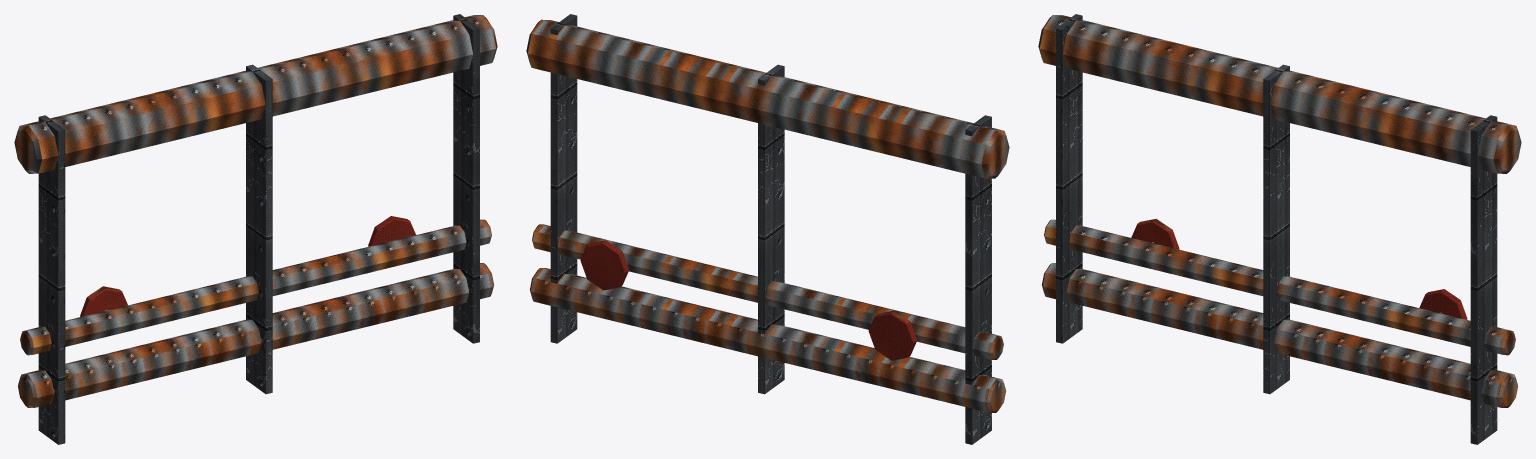
The model's file is int_pipes.glb.
3 views of the same model, side by side, from view 1: azimuth 30°, elevation 25°; view 2: azimuth 150°, elevation 25°; view 3: azimuth 330°, elevation 25° (orthographic).
Parts seen in each view (by area): view 1: int_pipes_mesh; view 2: int_pipes_mesh; view 3: int_pipes_mesh.
Boxes of the visible parts, <box> form: int_pipes_mesh: <box>14,14,497,444</box>; int_pipes_mesh: <box>526,14,1009,444</box>; int_pipes_mesh: <box>1038,14,1521,444</box>.
Size of what is drawn, in the model's own units: 4 by 2.6 by 0.43.
Materials: 3 (3 with a texture image).
